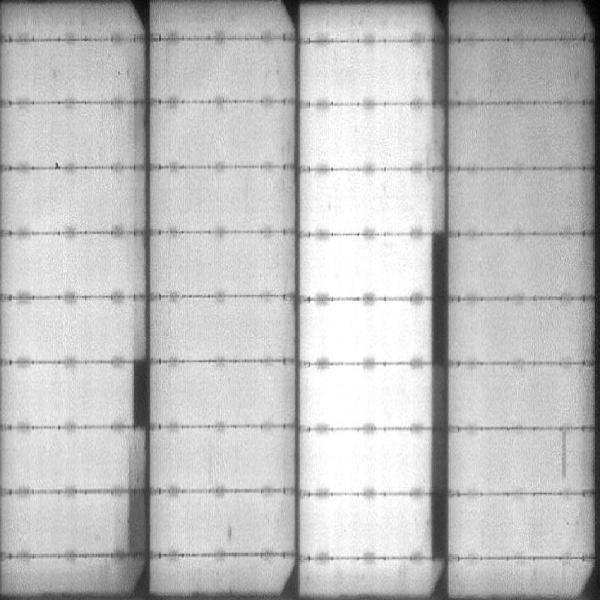black_border: (430, 228, 451, 565), (127, 356, 154, 434), (124, 490, 152, 559), (429, 27, 447, 118)
hot_spot: (318, 437, 422, 487), (320, 372, 426, 420), (319, 246, 423, 292), (318, 312, 421, 354)
scratch: (554, 425, 572, 479)
